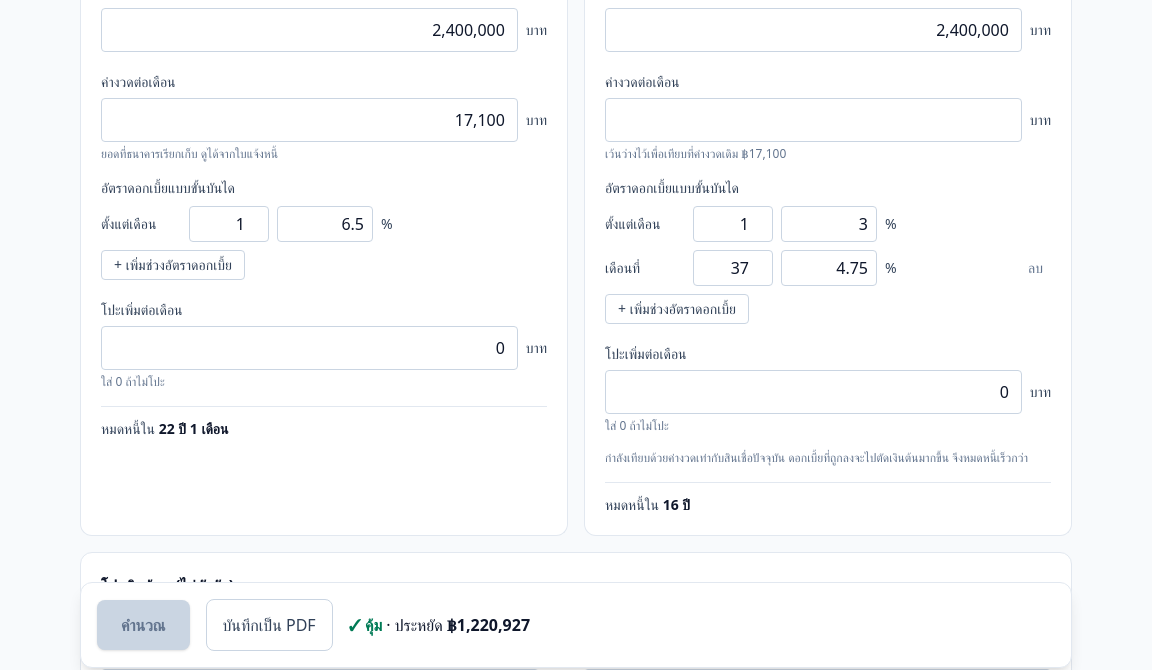
Test: App › warns instead of calculating when the rate tiers are invalid
(page scrolled)
# Pushing the second tier back before the first breaks the ordering rule.
Replace the text in the number field named "ช่วงที่ 2 เริ่มเดือนที่" with "0" at (733, 268), box [693,250,773,286]
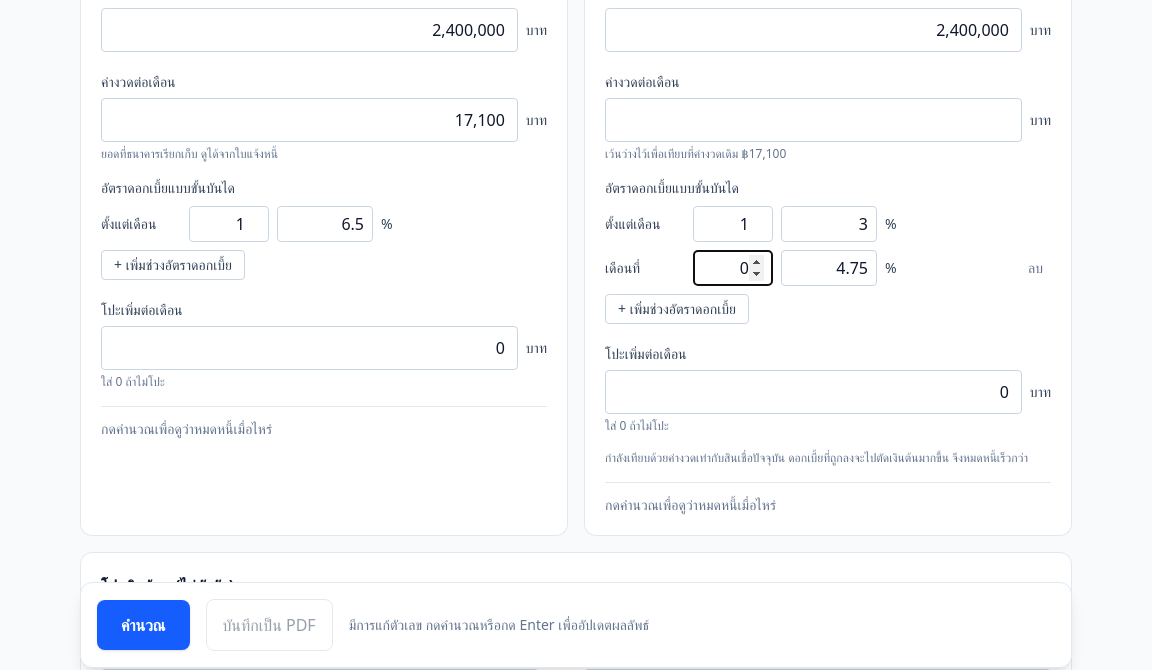
Click the button "คำนวณ" at (143, 625), box [97,600,190,650]
(page scrolled)
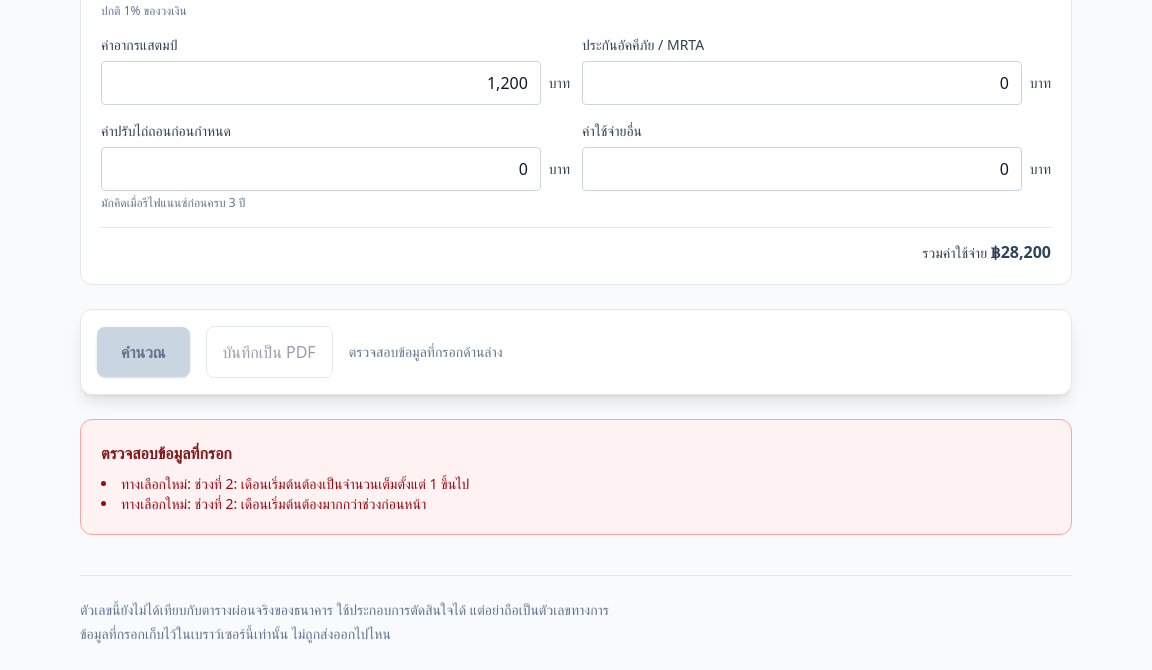
Now the heading "ตรวจสอบข้อมูลที่กรอก" is shown, box [101,442,232,464]
